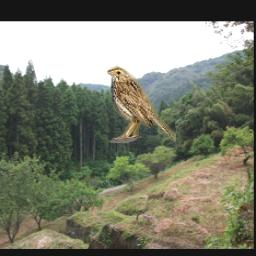Sparrow: (106, 66, 175, 145)
